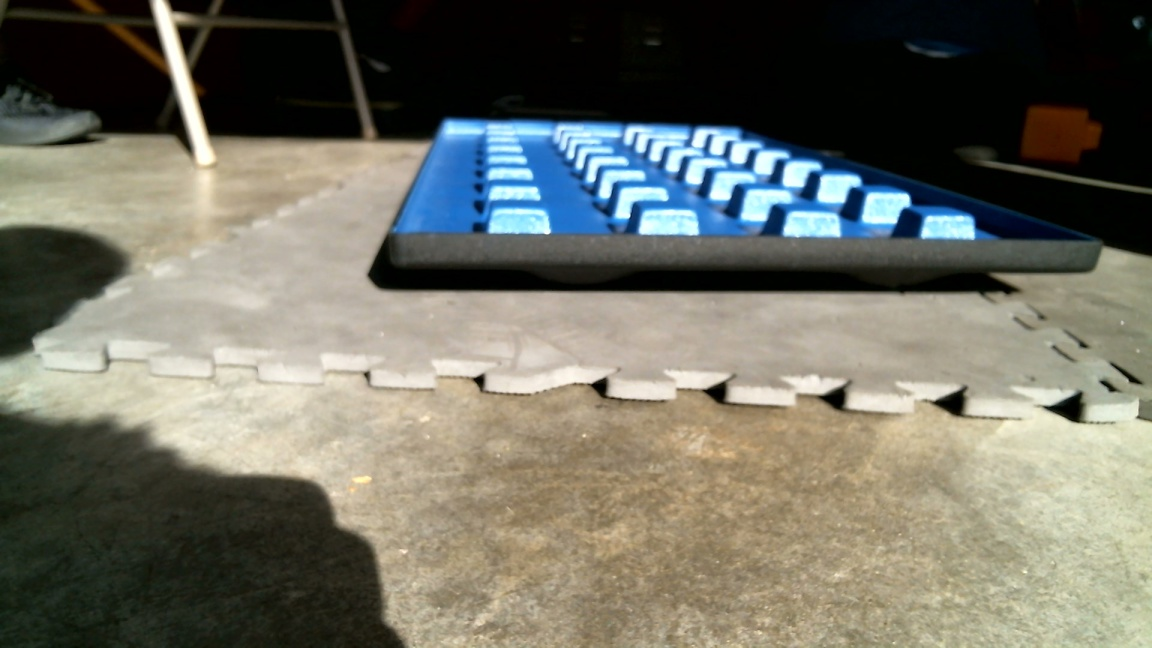blue_foundation: (393, 118, 1101, 296)
